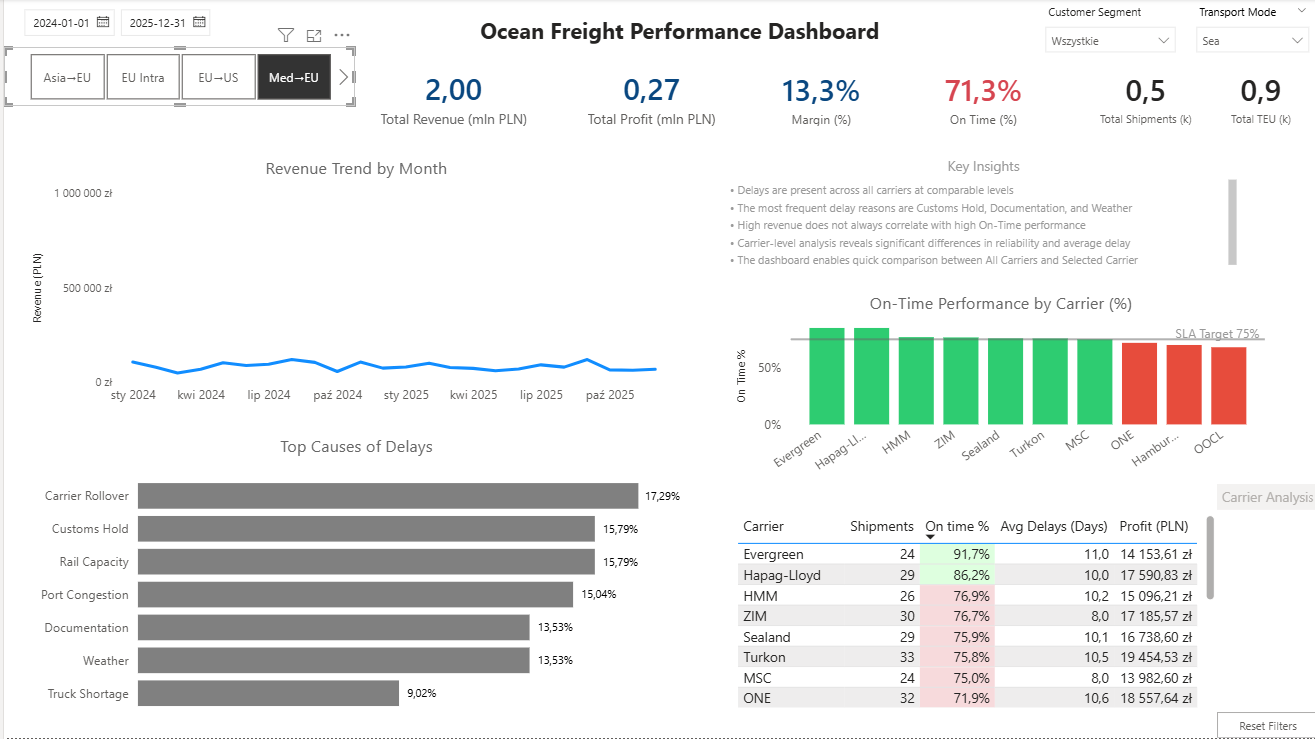

What the dashboard file says about the page in this screenshot:
{"tool":"powerbi","page":{"name":"Sea Freight Performance","canvas":[1280,720],"ordinal":0},"visuals":[{"type":"cardVisual","title":"ggggg","fields":{"Data":["fact_shipments.Shipments (k)"]},"box":[1042.5,50.1,138.2,90.5],"z":0},{"type":"cardVisual","fields":{"Data":["dim_calendar.TEU (k)"]},"box":[1168.1,51.1,111.9,88.6],"z":1000},{"type":"cardVisual","fields":{"Data":["fact_shipments.przychód (mln)"]},"box":[341.7,50.6,192.7,89.6],"z":2000},{"type":"cardVisual","fields":{"Data":["dim_calendar.Total Profit"]},"box":[534.4,50.1,192.7,90.5],"z":3000},{"type":"cardVisual","fields":{"Data":["fact_shipments.Marża%"]},"box":[727.1,50.1,137.2,90.5],"z":4000},{"type":"cardVisual","fields":{"Data":["dim_calendar.On Time % Display"]},"box":[864.4,50.1,178.1,90.5],"z":5000},{"type":"lineChart","title":"Revenue Trend by Month","fields":{"Category":["dim_calendar.MonthStartDate"],"Y":["fact_shipments.Przychód"]},"box":[23.4,253.1,656.1,149.9],"z":6000},{"type":"slicer","fields":{"Values":["dim_calendar.Date"]},"box":[6.8,0,205.4,46.3],"z":7000},{"type":"columnChart","title":"On-Time Performance by Carrier (%)","fields":{"Category":["dim_carriers.CarrierName"],"Y":["fact_shipments.on time%"]},"box":[699.9,253.1,557.7,206.4],"z":8000},{"type":"clusteredBarChart","title":"Top Causes of Delays","fields":{"Category":["fact_shipments.DelayReason"],"Y":["fact_shipments.Delay % Share"]},"box":[23.4,424.4,656.1,282.3],"z":9000},{"type":"tableEx","fields":{"Values":["dim_carriers.CarrierName","fact_shipments.Wysyłki","fact_shipments.On time %","fact_shipments.Śr. opóźnienie %","fact_shipments.Zysk"]},"box":[744.6,505.2,479.9,180.1],"z":10000},{"type":"slicer","fields":{"Values":["fact_shipments.TradeLane"]},"box":[0,46.3,342,57.6],"z":11000},{"type":"slicer","fields":{"Values":["fact_shipments.Mode"]},"box":[1150.2,0,129.8,56.4],"z":12000},{"type":"slicer","fields":{"Values":["dim_customers.Segment"]},"box":[1003.5,0,146.7,56.4],"z":13000},{"type":"actionButton","box":[1180.7,459.4,99.3,25.3],"z":14000},{"type":"textbox","title":"Ocean Freight Performance Dashboard","box":[458.5,15.6,407.8,38],"z":15000},{"type":"actionButton","box":[1197.3,694,82.4,26],"z":16000},{"type":"textbox","box":[124.6,140.2,952,96.4],"z":16001}]}

Visuals, with their boxes on the page's 1280x720 design canvas (x1, y1, x2, y2). These are canvas units, not pixel positions in the 1315x739 screenshot, which may show the page scaled, cropped or inside an application window:
"ggggg" cardVisual: bbox(1042, 50, 1181, 141)
cardVisual - dim_calendar.TEU (k): bbox(1168, 51, 1280, 140)
cardVisual - fact_shipments.przychód (mln): bbox(342, 51, 534, 140)
cardVisual - dim_calendar.Total Profit: bbox(534, 50, 727, 141)
cardVisual - fact_shipments.Marża%: bbox(727, 50, 864, 141)
cardVisual - dim_calendar.On Time % Display: bbox(864, 50, 1042, 141)
"Revenue Trend by Month" lineChart: bbox(23, 253, 680, 403)
slicer - dim_calendar.Date: bbox(7, 0, 212, 46)
"On-Time Performance by Carrier (%)" columnChart: bbox(700, 253, 1258, 460)
"Top Causes of Delays" clusteredBarChart: bbox(23, 424, 680, 707)
tableEx - dim_carriers.CarrierName x fact_shipments.Wysyłki: bbox(745, 505, 1224, 685)
slicer - fact_shipments.TradeLane: bbox(0, 46, 342, 104)
slicer - fact_shipments.Mode: bbox(1150, 0, 1280, 56)
slicer - dim_customers.Segment: bbox(1004, 0, 1150, 56)
actionButton: bbox(1181, 459, 1280, 485)
"Ocean Freight Performance Dashboard" textbox: bbox(458, 16, 866, 54)
actionButton: bbox(1197, 694, 1280, 720)
textbox: bbox(125, 140, 1077, 237)
